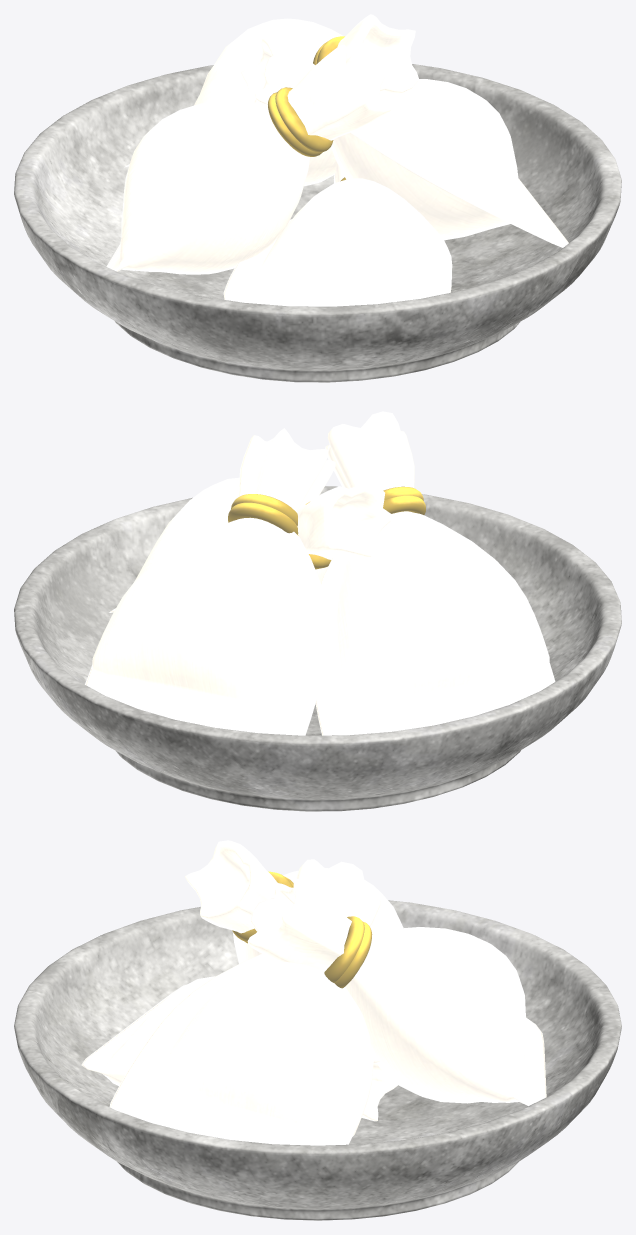
The model's file is PUDAK.glb.
3 views of the same model, one above another, from view 1: azimuth 30°, elevation 25°; view 2: azimuth 150°, elevation 25°; view 3: azimuth 270°, elevation 25° (orthographic).
Visible parts, largest first — view 1: PUDAK; view 2: PUDAK; view 3: PUDAK.
Boxes of the visible parts, <box> form: PUDAK: <box>14,14,621,382</box>; PUDAK: <box>14,411,621,811</box>; PUDAK: <box>14,840,621,1220</box>.
Size of the model in its own units: 1.87 by 0.9645 by 1.87.
Materials: 1 (1 with a texture image).
